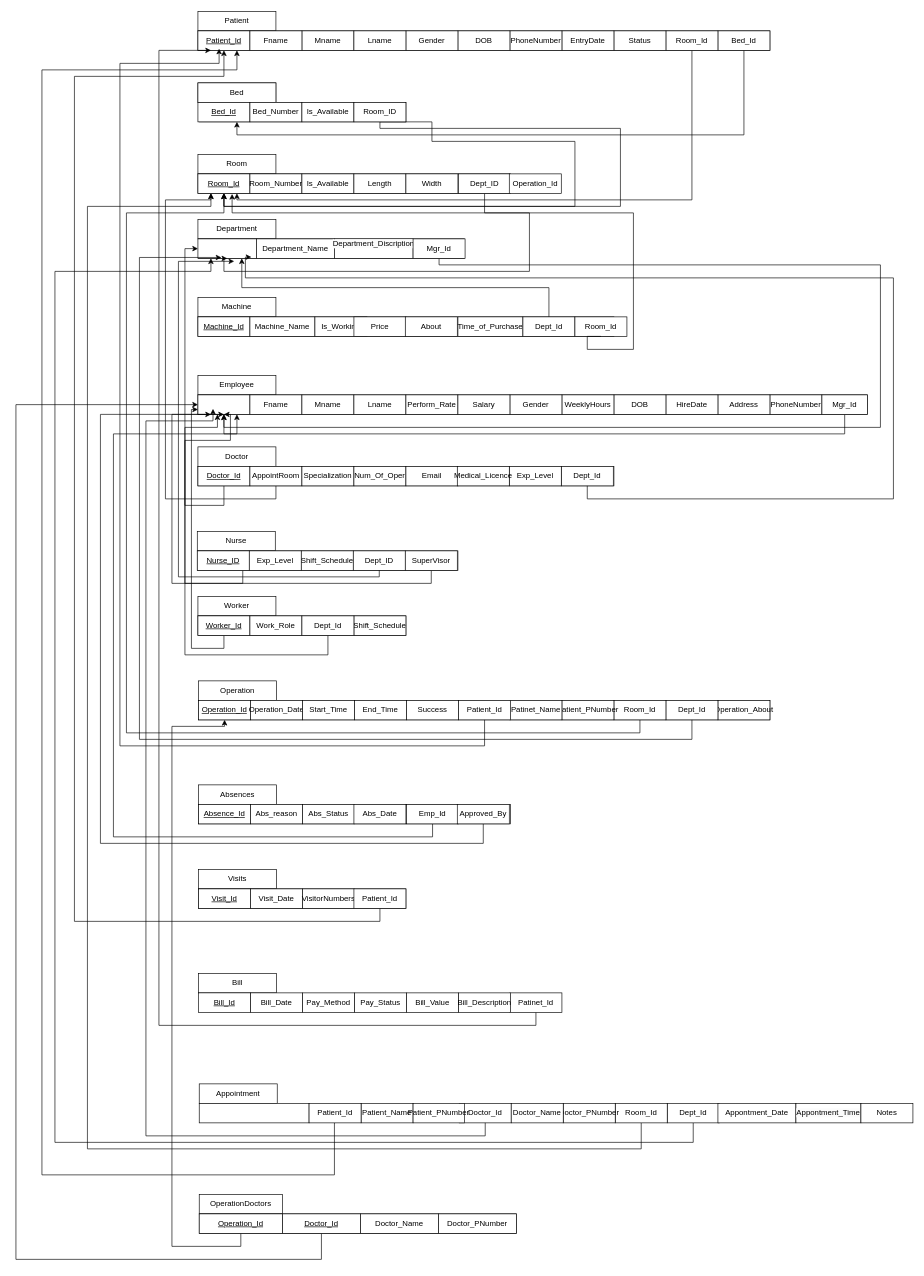
Image size: 924x1276. Some labels were removed from this diagram. The shapes that lost their labels are listed below. From the top down, each one's centre as x and y in pixels, then its label:
pixel 226 248: Deptartment_Id
pixel 223 404: Employee_Id
pixel 254 1113: Appointment_Id
